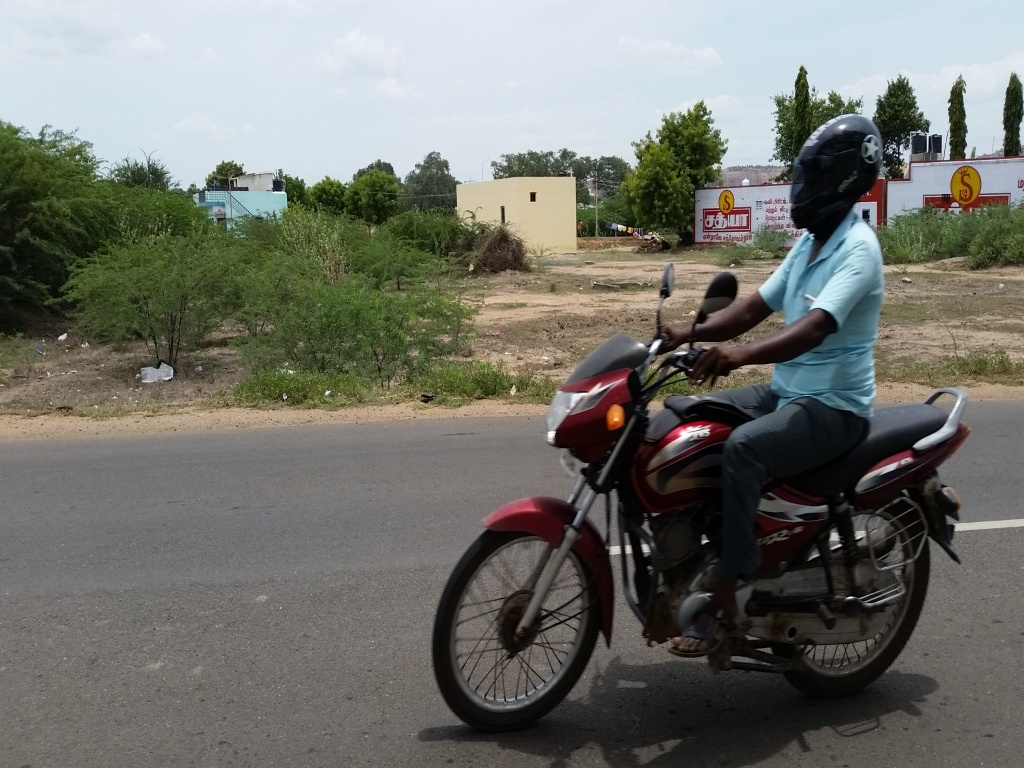biker: (412, 73, 1024, 752)
helmet: (776, 96, 893, 257)
